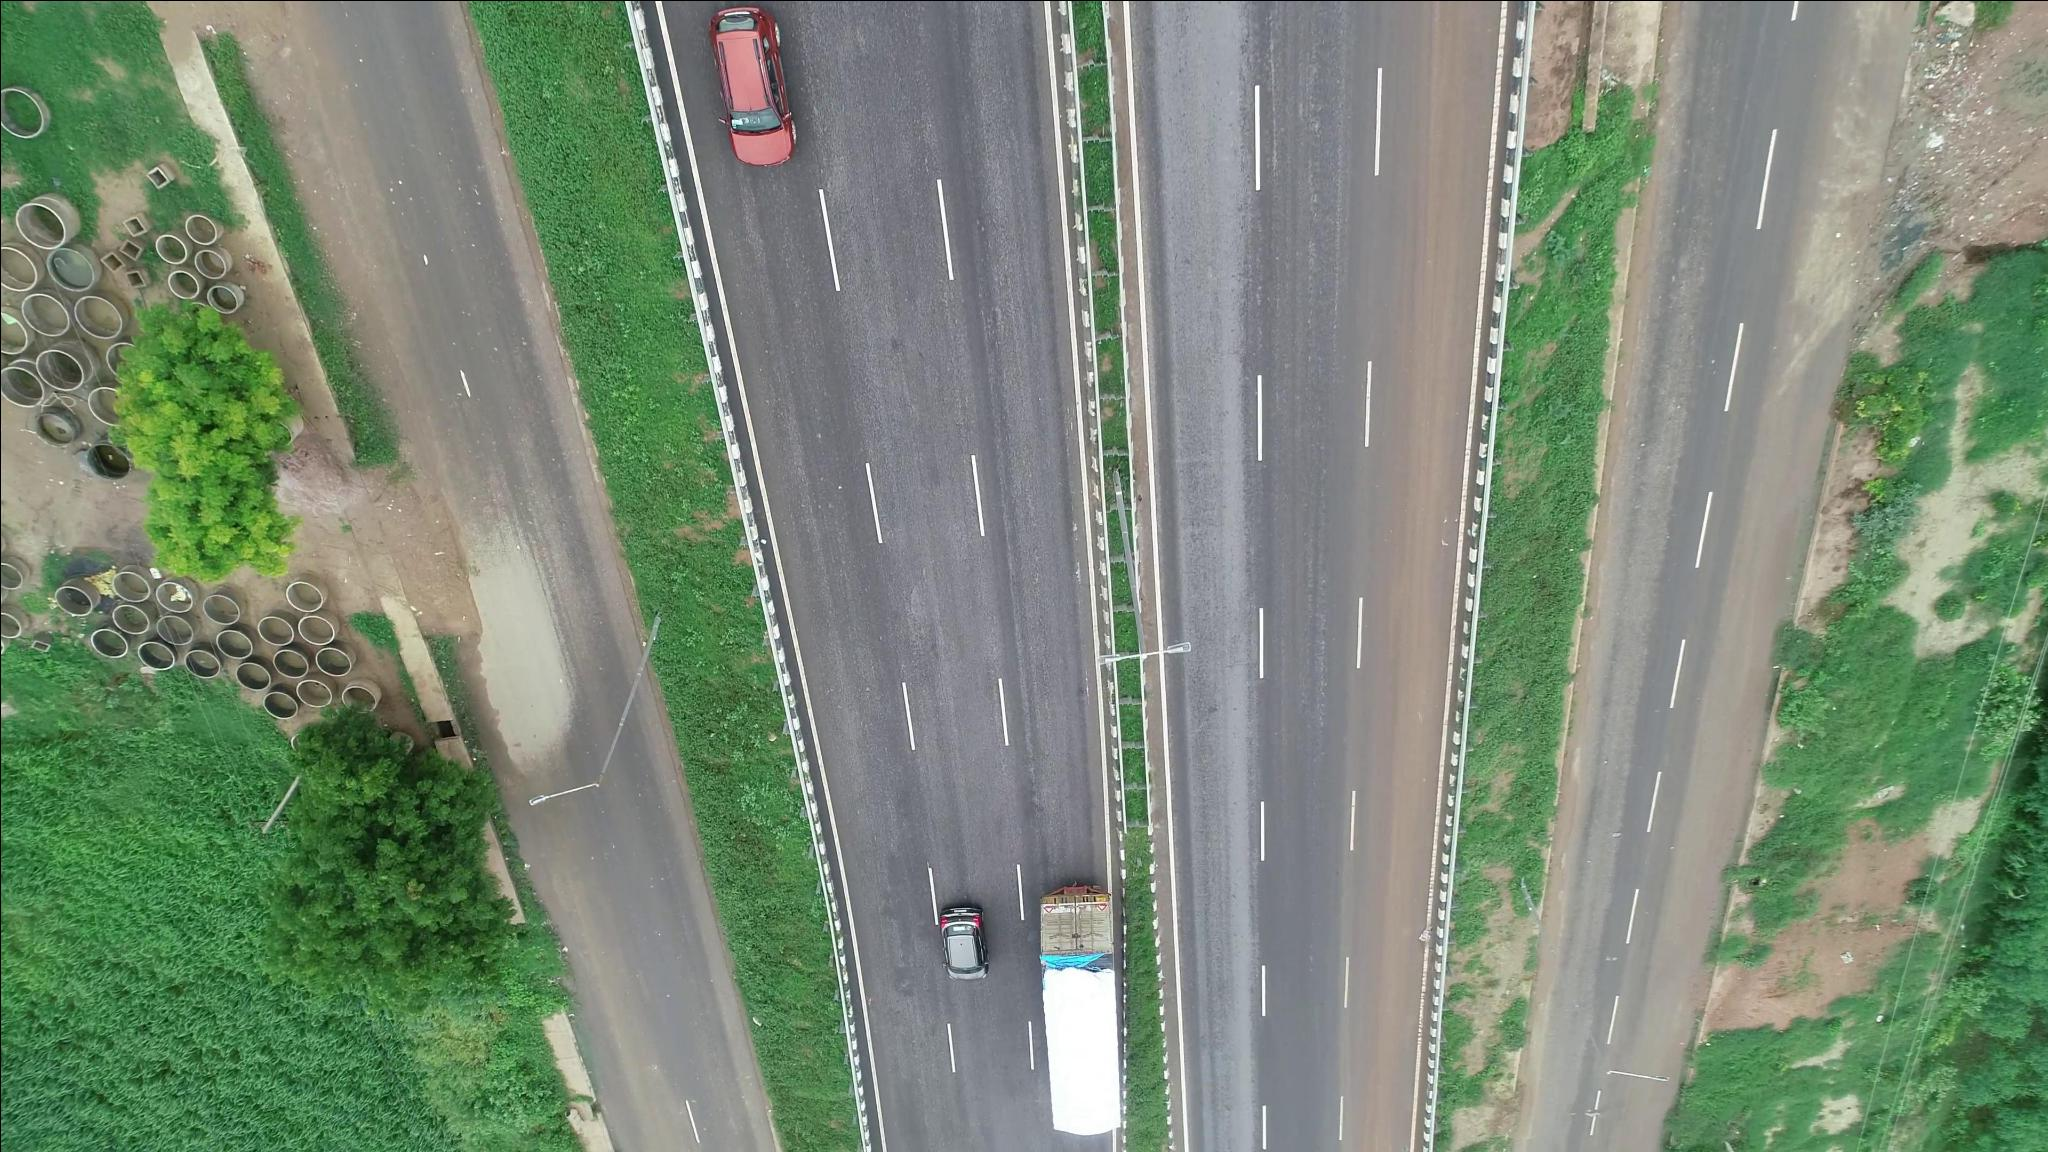Muddy_road: (1326, 429, 1452, 824), (1378, 13, 1487, 425), (1332, 838, 1426, 1132)
